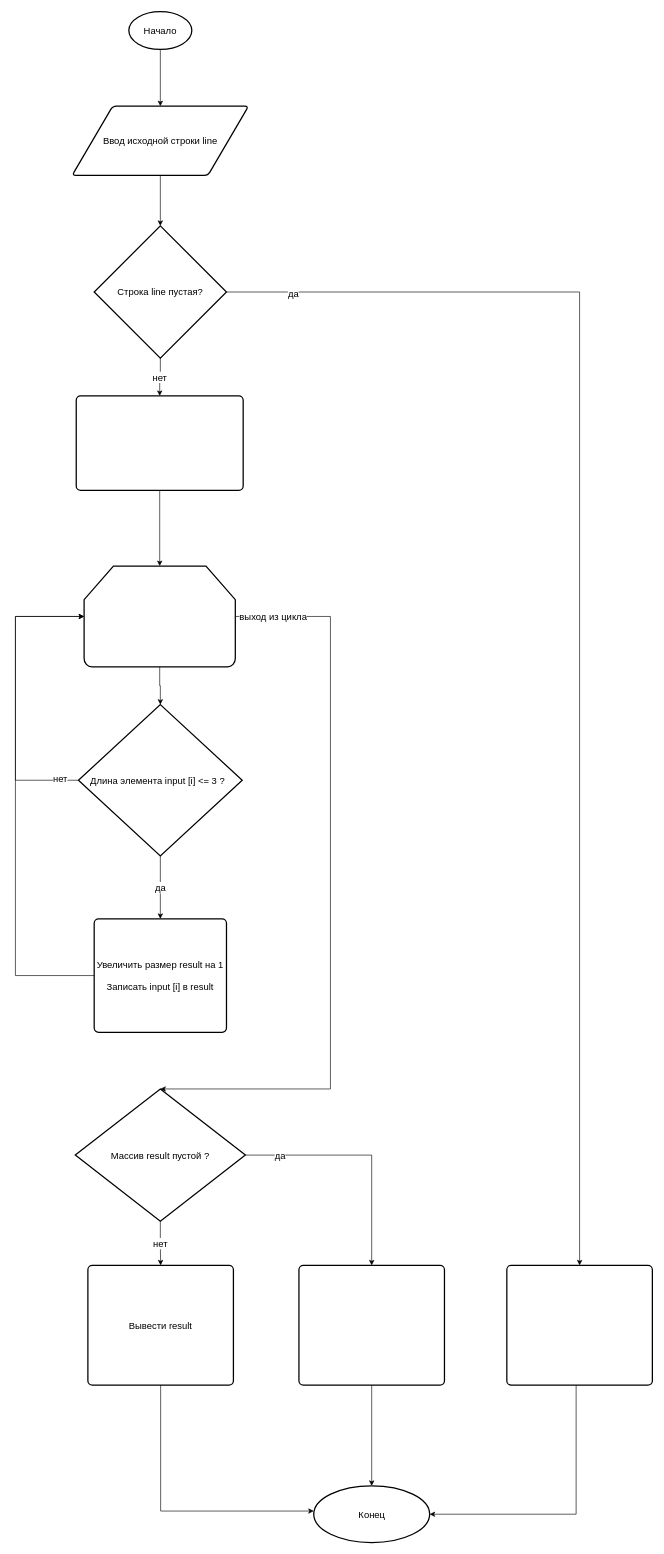
Some shapes in this 664 by 1554 pixel diagram are drawn without their labels. Here are the shapes that lost their labels. From the top down, the centre of each, then its label:
At (x=159, y=443): "Задать массив input из строки line Задать пустой массив result".
At (x=159, y=616): "Цикл for i = 0 to input.Length - 1".
At (x=371, y=1324): "Вывести почему result пустой".
At (x=579, y=1324): "Вывести, что line пустая".
